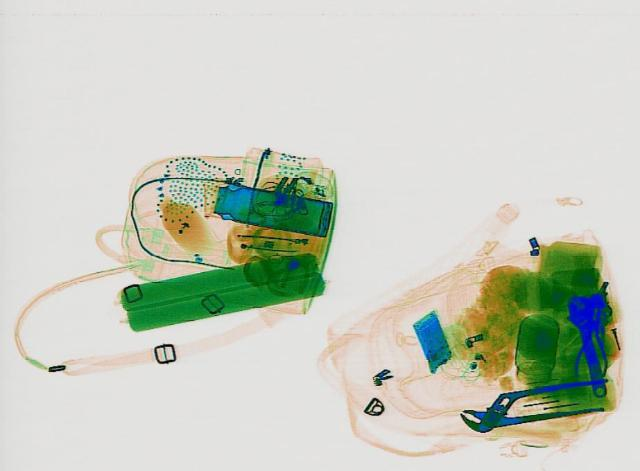Wrench: (561, 295, 617, 400)
